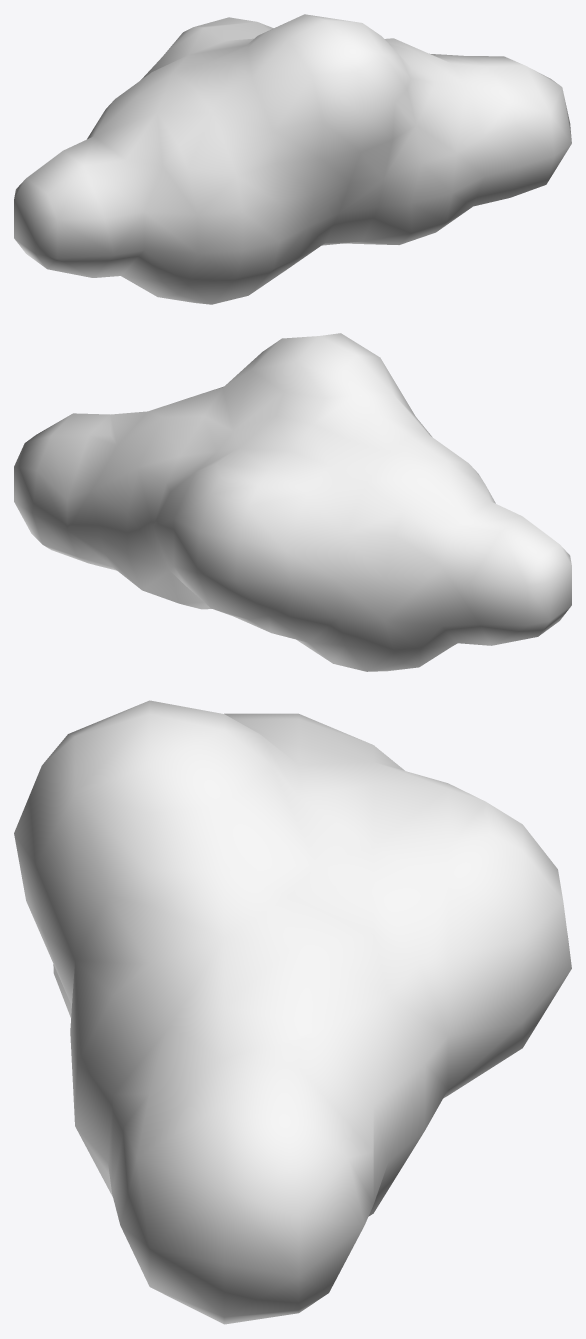
Rendered from Cloud_02.fbx.
3 views of the same model, one above another, from view 1: azimuth 30°, elevation 25°; view 2: azimuth 150°, elevation 25°; view 3: azimuth 270°, elevation 25° (orthographic). The views are drawn at different scales.
Visible parts, largest first — view 1: Cloud_02; view 2: Cloud_02; view 3: Cloud_02.
Part boxes in pixels (<box>): Cloud_02: <box>14,14,571,304</box>; Cloud_02: <box>14,333,571,671</box>; Cloud_02: <box>14,700,571,1324</box>.
Bounding box in the file's own units: 417 × 202 × 214.
